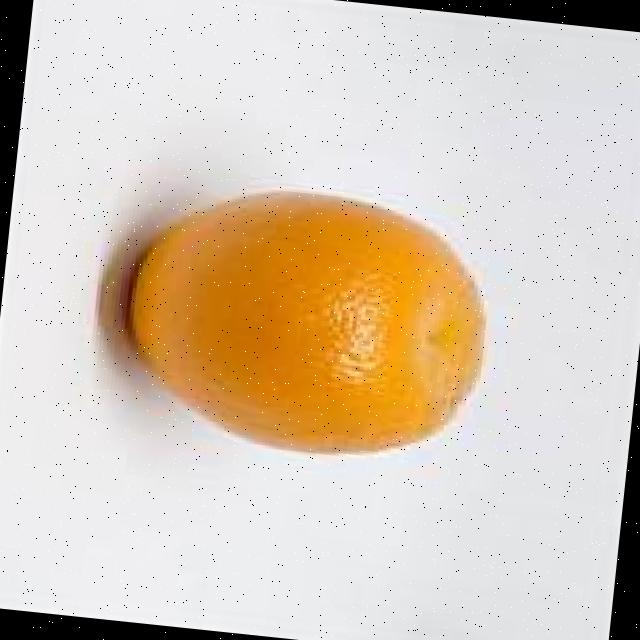orange: (107, 169, 500, 470)
